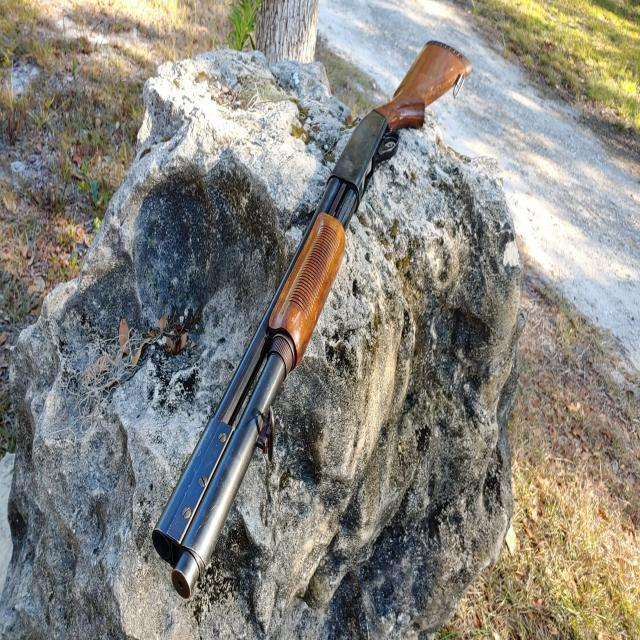shotgun: (149, 34, 477, 608)
